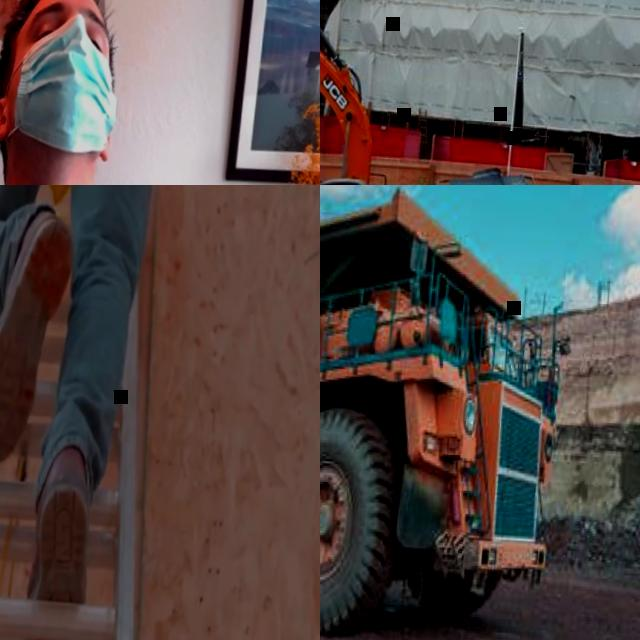machinery: (320, 185, 582, 640), (320, 0, 487, 185)
mask: (0, 13, 121, 159)
no_helmet: (0, 0, 112, 28)
person: (0, 185, 203, 640), (0, 0, 255, 185)
